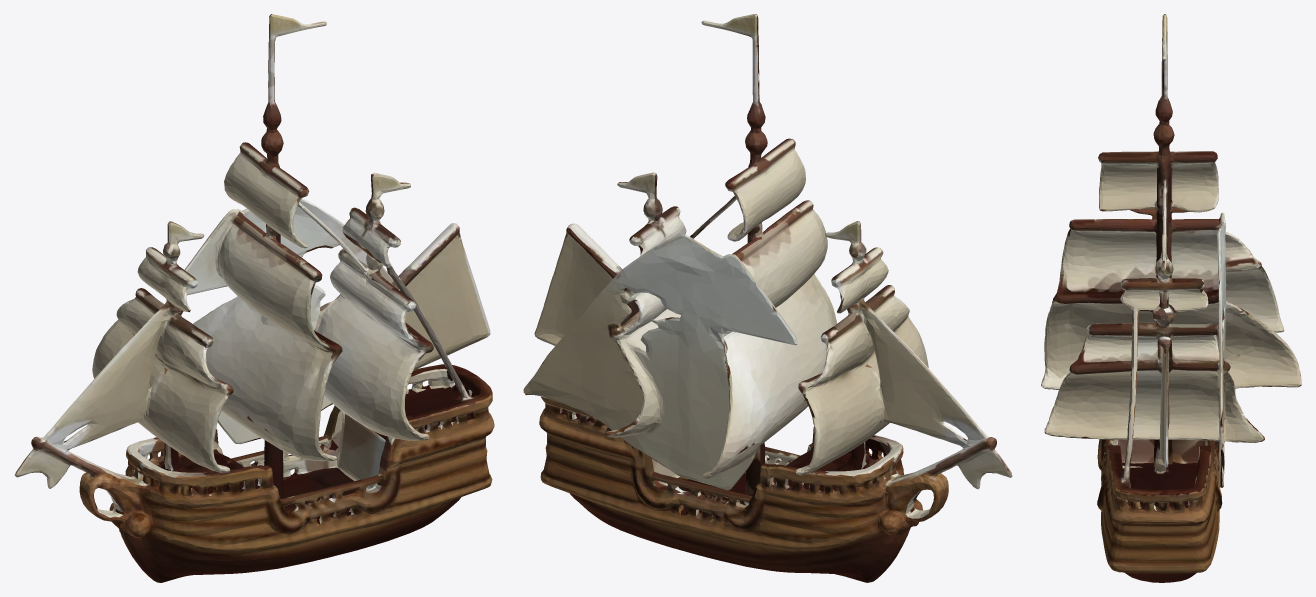
The model's file is fantasy_sailing_galleon.glb.
3 views of the same model, side by side, from view 1: azimuth 30°, elevation 25°; view 2: azimuth 150°, elevation 25°; view 3: azimuth 270°, elevation 25° (orthographic). The views are drawn at different scales.
Visible parts, largest first — view 1: tmpfzjtiz5p.ply; view 2: tmpfzjtiz5p.ply; view 3: tmpfzjtiz5p.ply.
Boxes of the visible parts, x1,y1,x2,y2 form: tmpfzjtiz5p.ply: [14, 14, 494, 582]; tmpfzjtiz5p.ply: [523, 14, 1012, 582]; tmpfzjtiz5p.ply: [1041, 14, 1301, 582].
Bounding box in the file's own units: 1.84 × 1.99 × 0.9275.
Materials: 1 (1 with a texture image).
